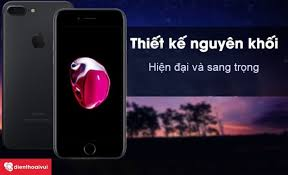iphone: (46, 4, 128, 164)
iphone7: (48, 4, 130, 164)
